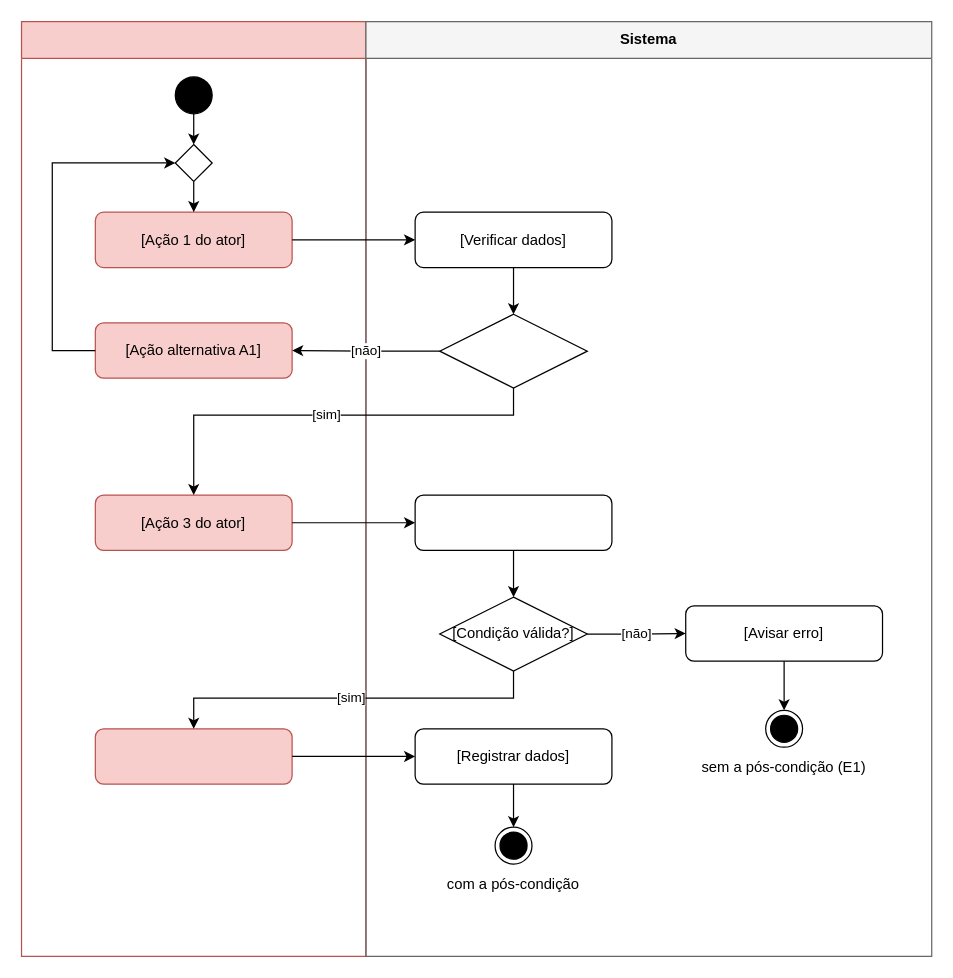
The diagram is 953 pixels wide and 978 high, and some of its shapes have lost their labels. Here are the shapes that lost their labels. From the top down, the box of each, then its label:
(438, 313, 587, 388): [Dados encontrados?]
(20, 20, 366, 956): [Nome do Ator]
(414, 494, 612, 550): [Verificar condição]
(94, 728, 292, 784): [Confirmar operação]
